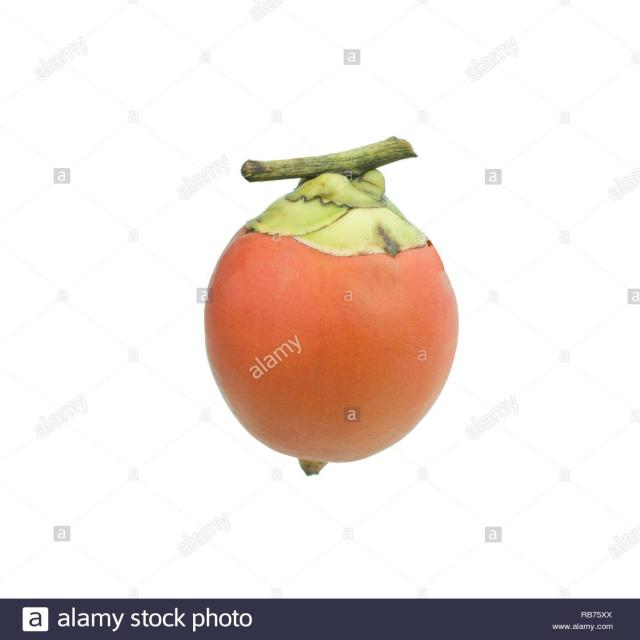good: (204, 139, 462, 477)
